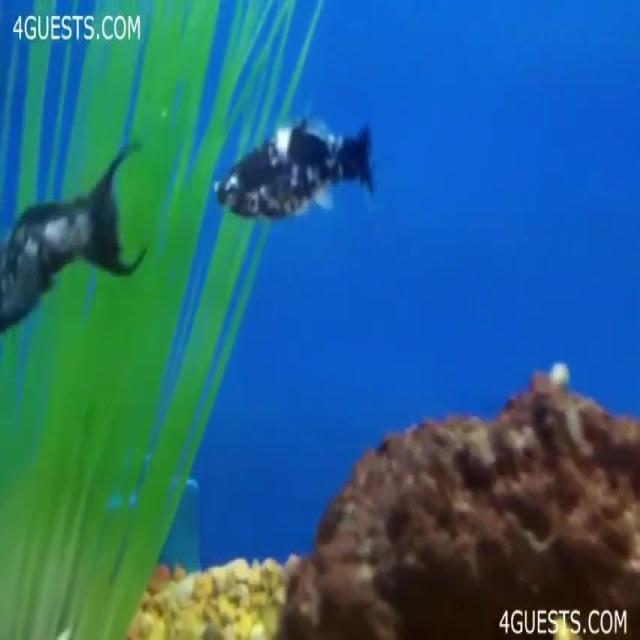PlatyFish: (202, 99, 392, 236)
